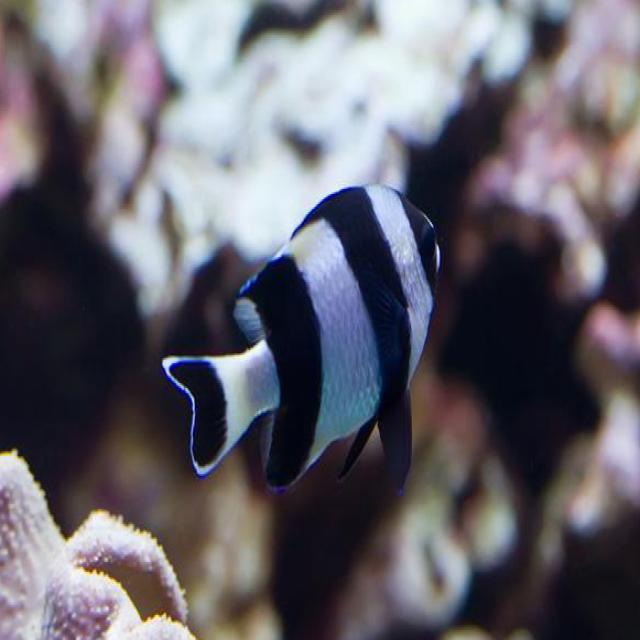ThreeStripedDamselfish: (158, 178, 448, 495)
